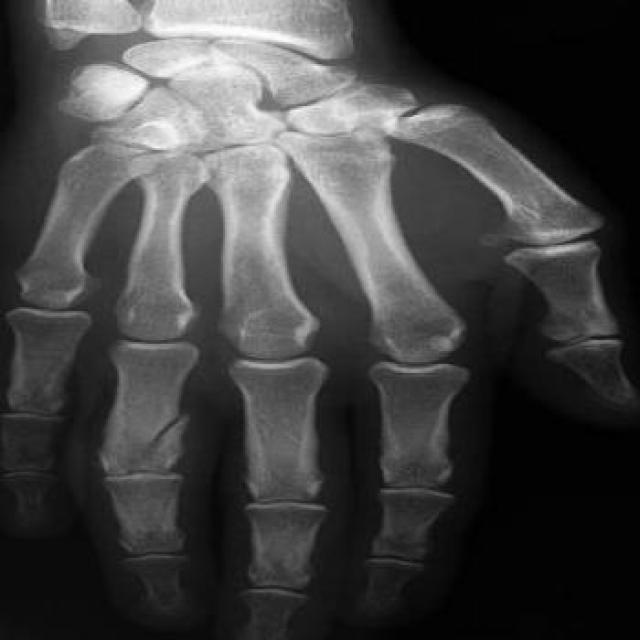Fracture: (112, 406, 220, 477)
